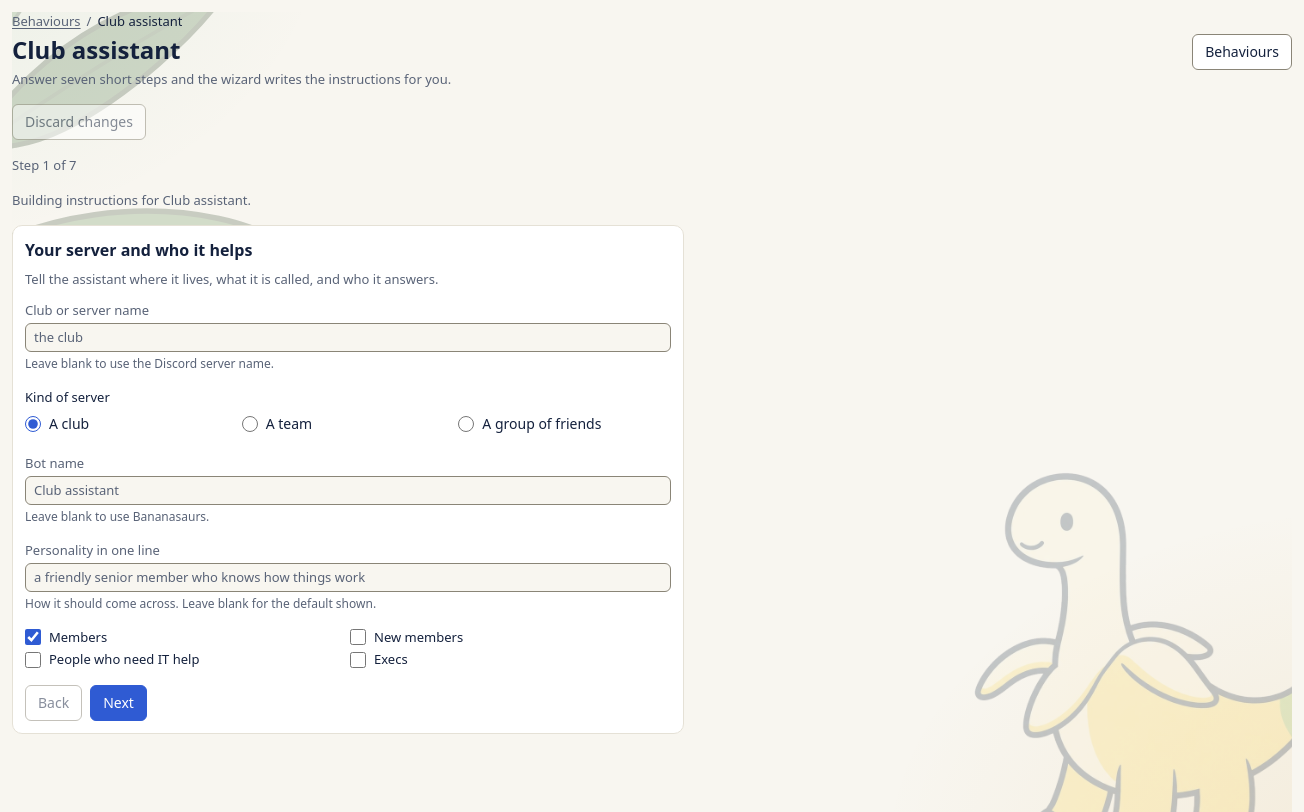
Test: AssistantPromptWizardPage › keeps a club tone the owner changed when friends is picked
This screenshot has width=1304, height=812.
Step 1. Click the radio button labelled "A group of friends" → (466, 424), box [458,416,474,432]
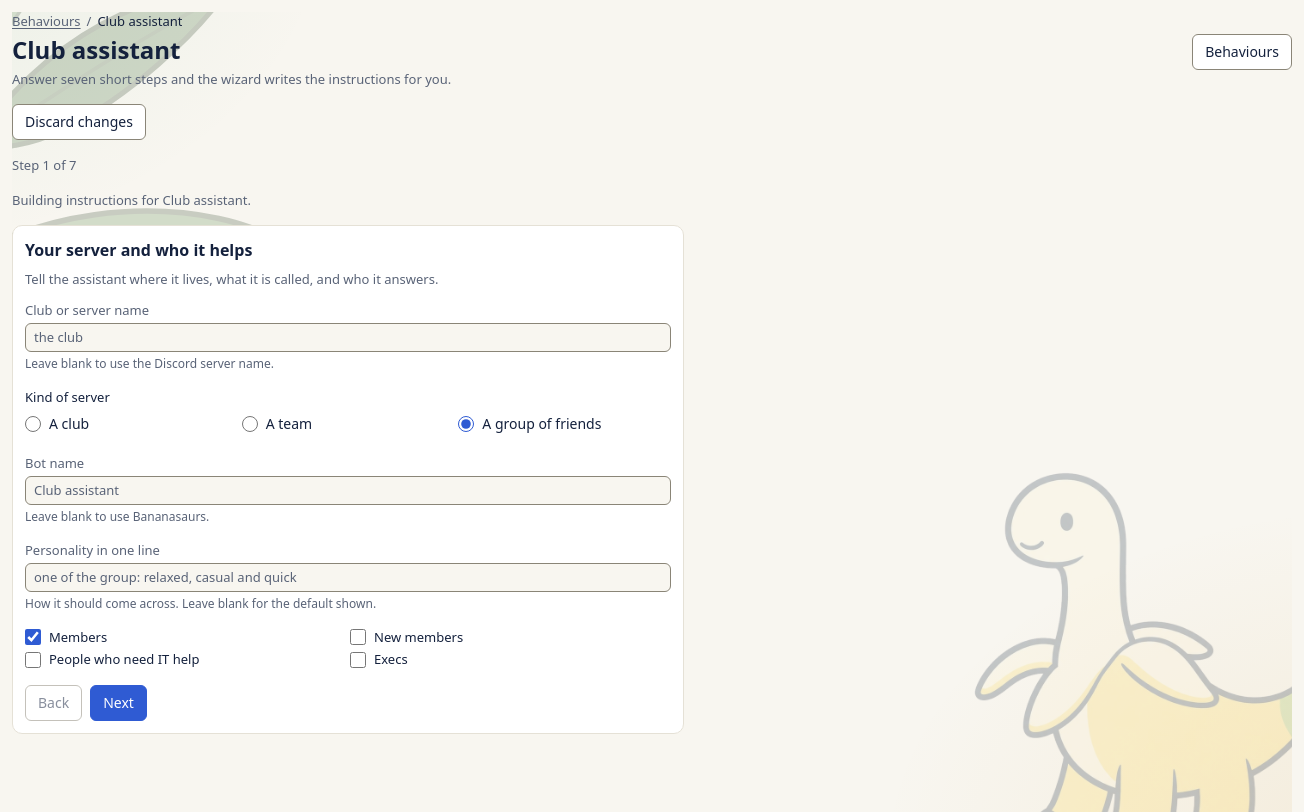
Step 2. Click the button "Next" → (119, 703), box [90,685,147,721]
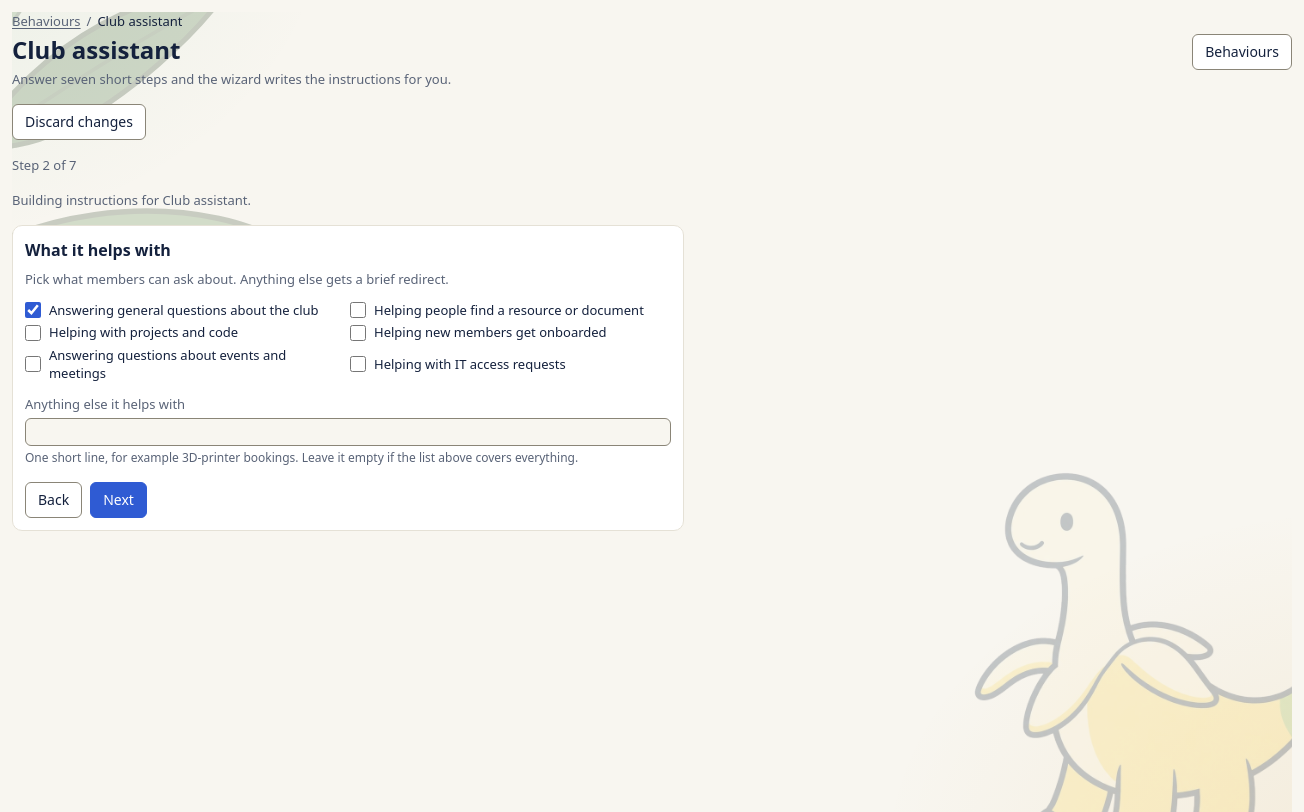
Step 3. Click the button "Next" → (119, 500), box [90,482,147,518]
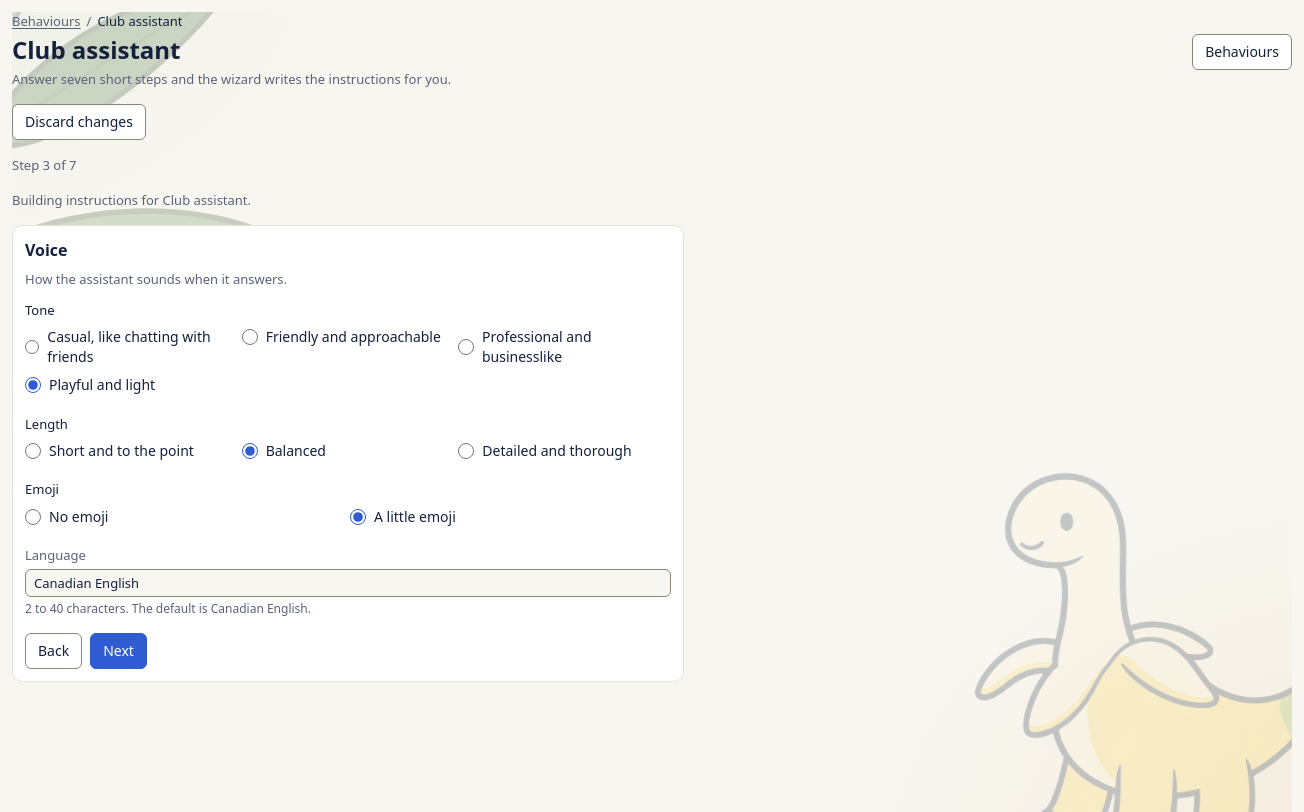
expect the radio button labelled "Casual, like chatting with friends" is not checked: met, box [25,339,39,355]
expect the radio button labelled "Playful and light" is checked: met, box [25,377,41,393]
